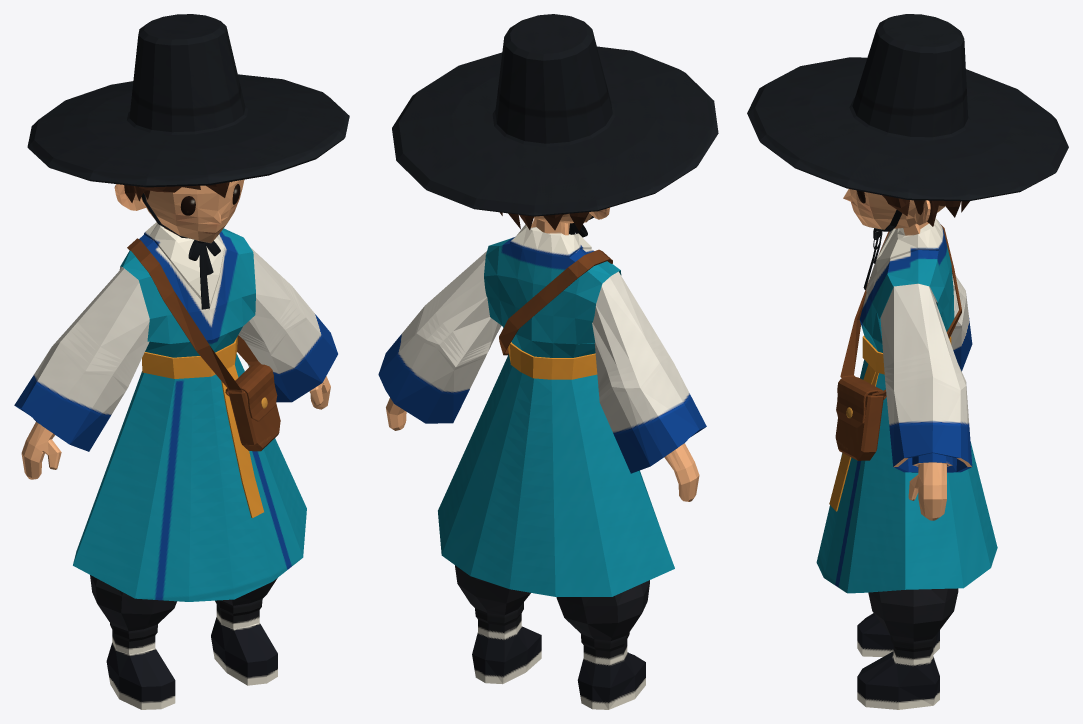
The model's file is Cheon_Player_Textured.fbx.
The picture shows the model from 3 angles, left to right: view 1: azimuth 30°, elevation 25°; view 2: azimuth 150°, elevation 25°; view 3: azimuth 270°, elevation 25°; orthographic projection.
Parts seen in each view (by area): view 1: Cheon_Player; view 2: Cheon_Player; view 3: Cheon_Player.
Boxes of the visible parts, x1,y1,x2,y2 form: Cheon_Player: [14, 14, 349, 709]; Cheon_Player: [378, 14, 718, 709]; Cheon_Player: [747, 14, 1068, 709].
Size of the model in its own units: 1.08 by 2.16 by 0.9748.
1 material, 1 textured.
